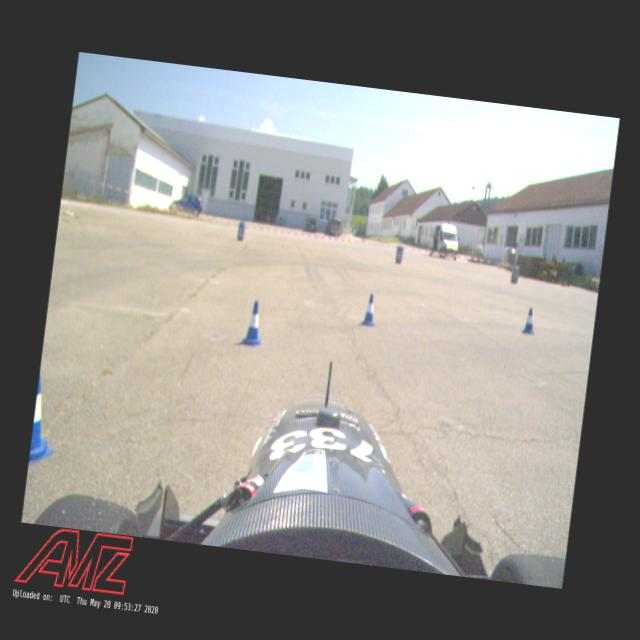blue_cone: (28, 368, 64, 469), (240, 300, 266, 348), (361, 292, 378, 328), (522, 308, 536, 334)
